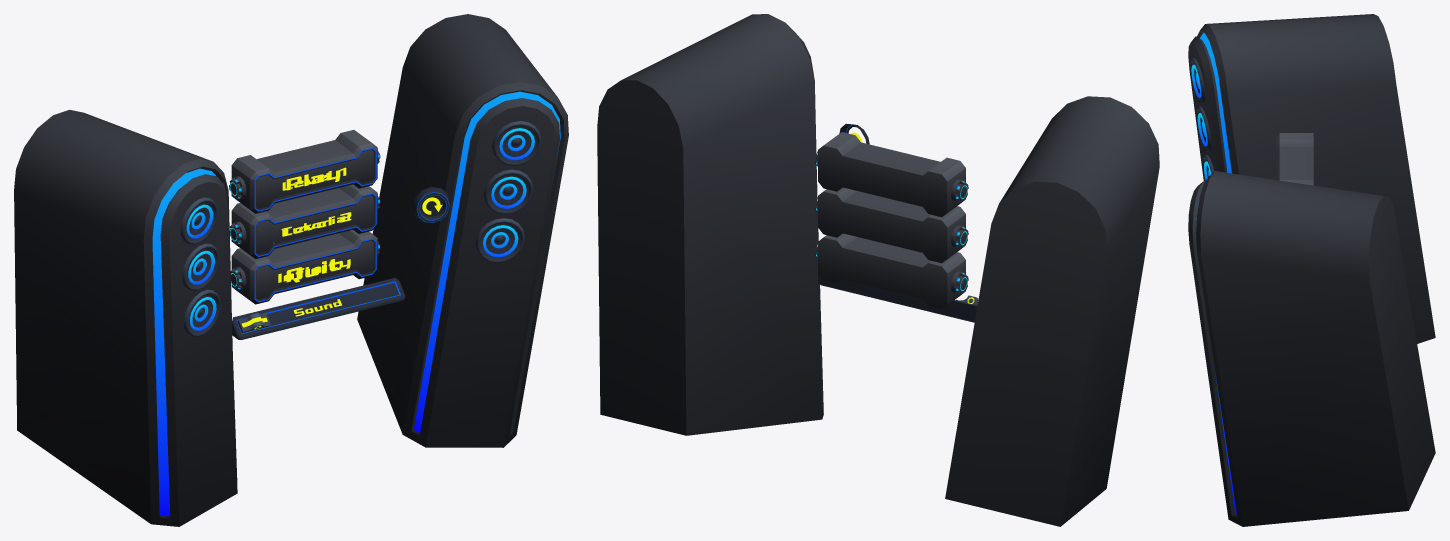
The model's file is Interact Main UI.fbx.
The picture shows the model from 3 angles, left to right: view 1: azimuth 30°, elevation 25°; view 2: azimuth 150°, elevation 25°; view 3: azimuth 270°, elevation 25°; orthographic projection. The views are drawn at different scales.
Visible parts, largest first — view 1: Plane.017, but_play, but_trial, but_quit, slider_sound, Cylinder.032, Cylinder.033, Cylinder.031, but_back; view 2: Plane.017, but_play, but_trial, but_quit, slider_sound; view 3: Plane.017, but_play, Cylinder.031, Cylinder.032.
Boxes of the visible parts, <box> form: Plane.017: <box>14,14,568,526</box>; but_play: <box>229,130,380,213</box>; but_trial: <box>229,184,380,258</box>; but_quit: <box>230,230,380,304</box>; slider_sound: <box>232,277,405,339</box>; Cylinder.032: <box>182,169,532,290</box>; Cylinder.033: <box>183,218,524,336</box>; Cylinder.031: <box>180,121,541,244</box>; but_back: <box>412,187,450,222</box>; Plane.017: <box>597,14,1159,526</box>; but_play: <box>815,132,968,217</box>; but_trial: <box>815,187,968,263</box>; but_quit: <box>815,233,968,309</box>; slider_sound: <box>818,274,977,322</box>; Plane.017: <box>1188,14,1435,526</box>; but_play: <box>1276,133,1313,185</box>; Cylinder.031: <box>1189,58,1204,103</box>; Cylinder.032: <box>1196,106,1211,152</box>.
Bounding box in the file's own units: 2900 × 2049 × 1336.
